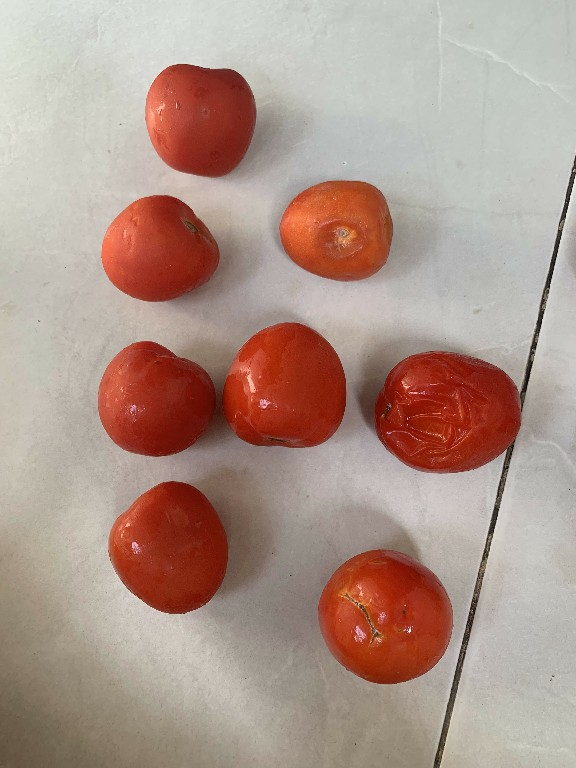NG: (311, 542, 460, 692), (370, 348, 524, 479), (268, 171, 397, 285)
OK: (99, 475, 246, 621), (220, 319, 346, 457), (131, 52, 258, 180), (86, 333, 216, 455), (97, 188, 223, 306)
